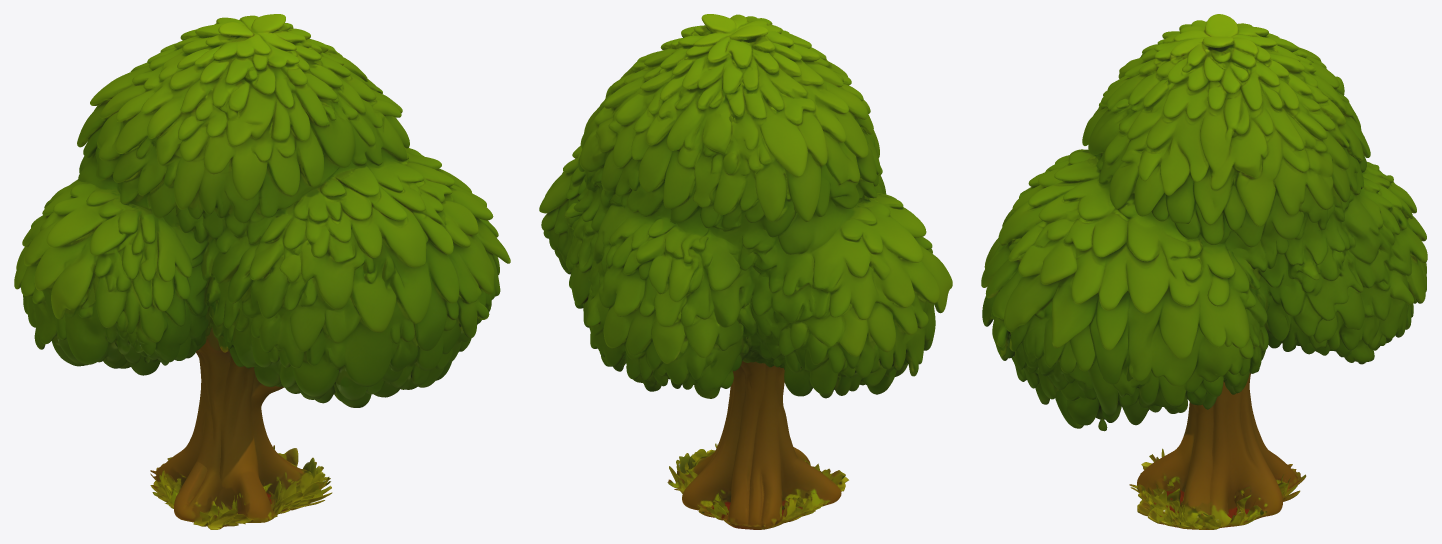
Rendered from green_tree_basic_shaded.glb.
The picture shows the model from 3 angles, left to right: view 1: azimuth 30°, elevation 25°; view 2: azimuth 150°, elevation 25°; view 3: azimuth 270°, elevation 25°; orthographic projection. The views are drawn at different scales.
Parts seen in each view (by area): view 1: model; view 2: model; view 3: model.
Boxes of the visible parts, left/top/right/bottom form: model: left=14, top=14, right=510, bottom=529; model: left=539, top=14, right=952, bottom=529; model: left=981, top=14, right=1427, bottom=529.
Bounding box in the file's own units: 52833 × 58401 × 49597.
Materials: 1 (1 with a texture image).
